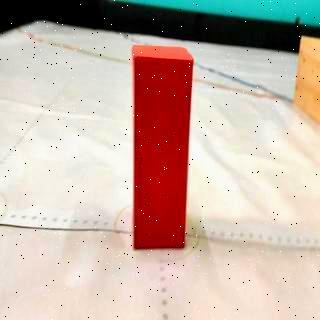redbox: (132, 46, 188, 249)
